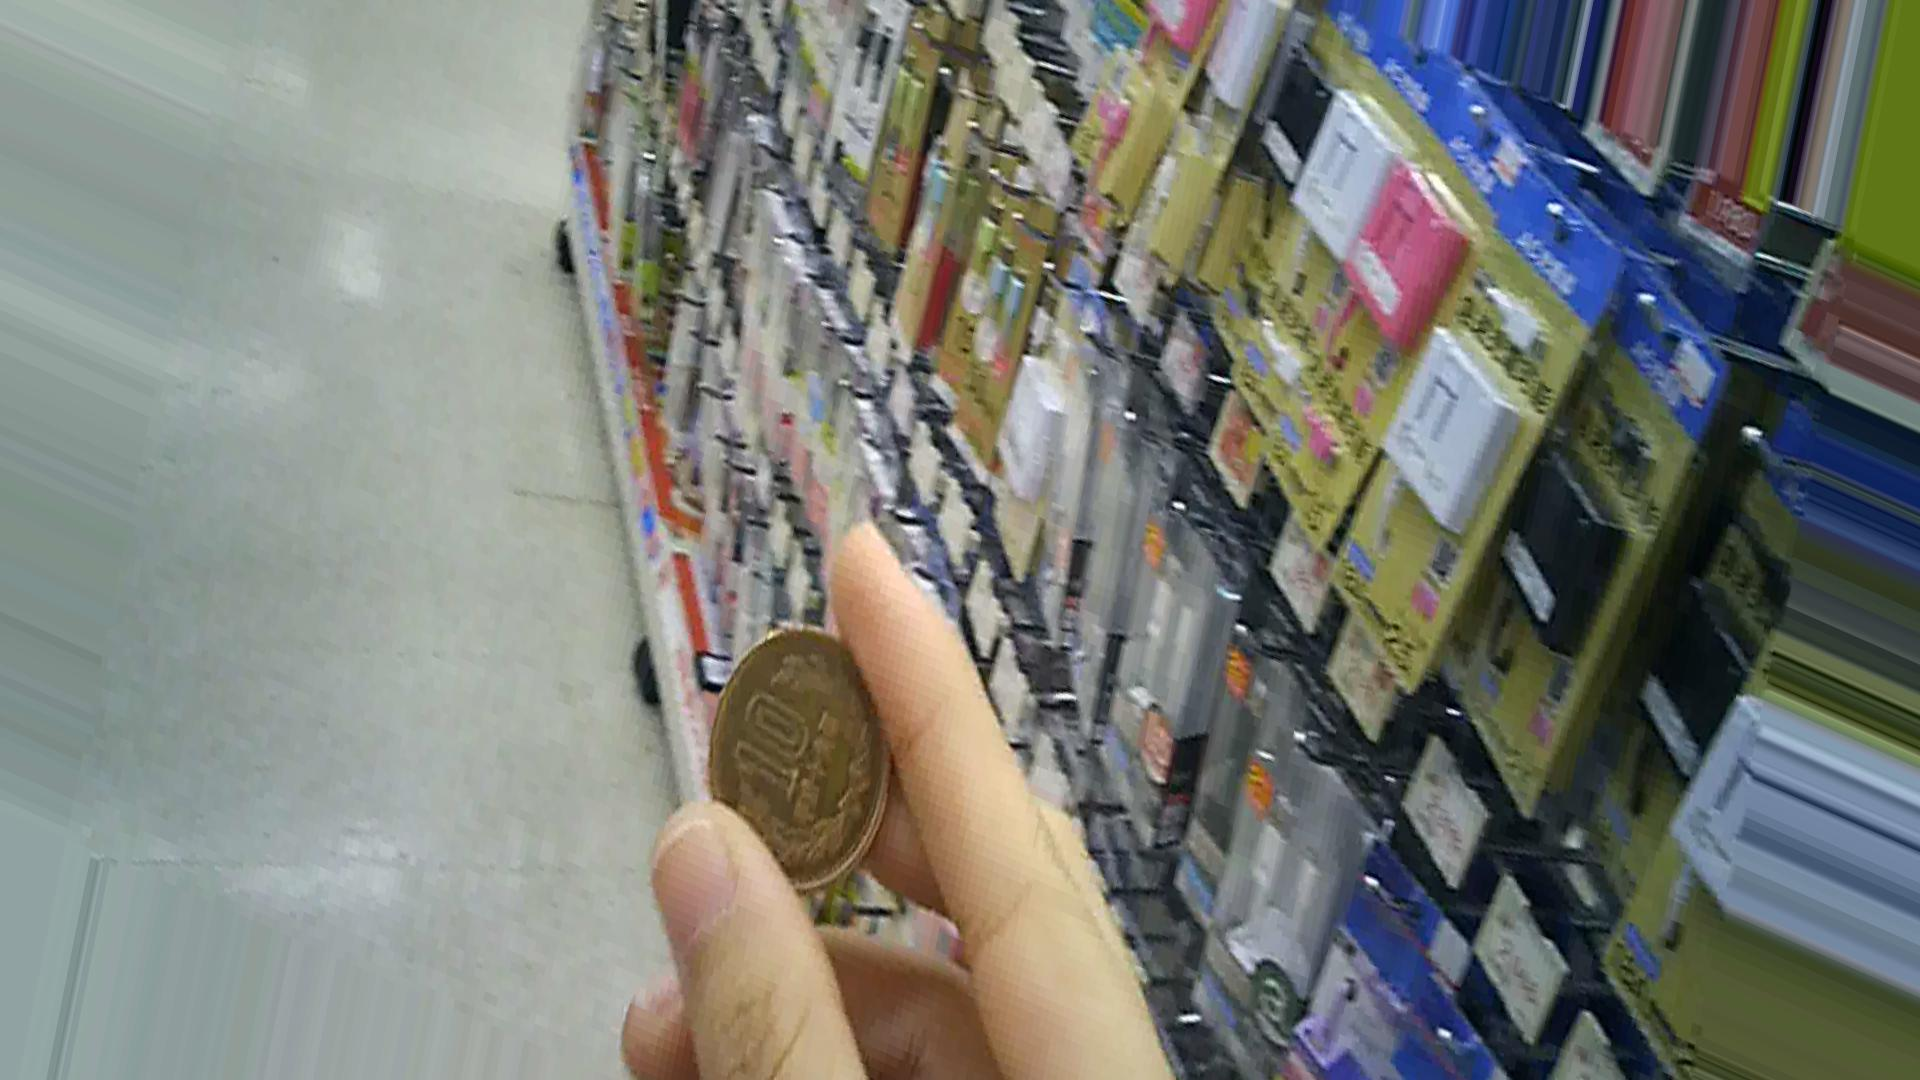10 Yen: (684, 625, 910, 924)
